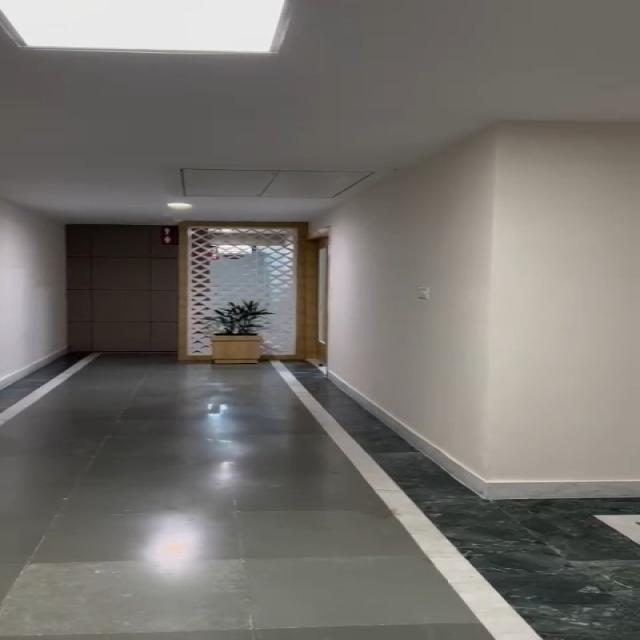door: (78, 224, 311, 366)
floor: (16, 368, 457, 640)
furniture: (211, 301, 264, 362)
wall: (310, 11, 640, 491)
